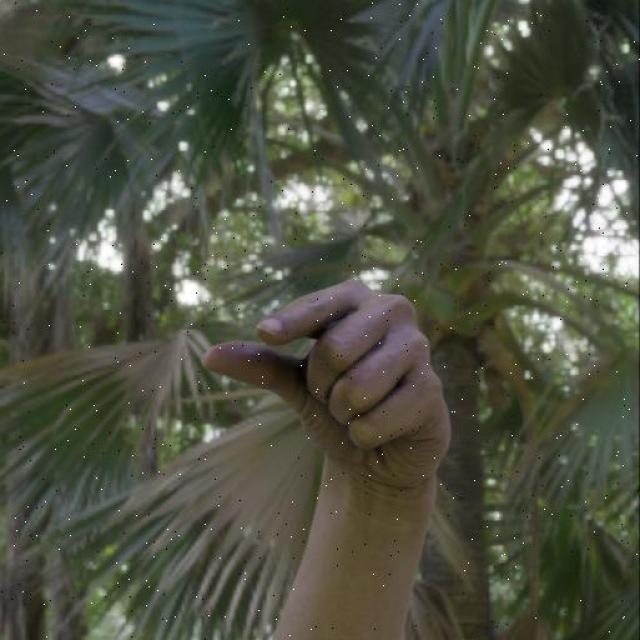G: (201, 274, 456, 491)
